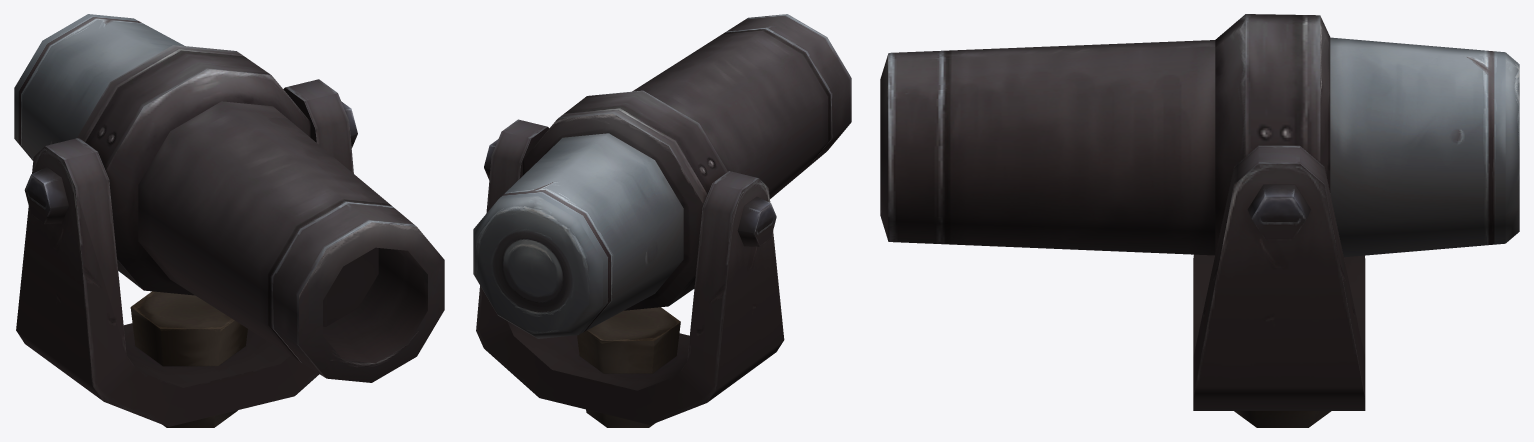
File: Tow_Cannon1.fbx
3 views of the same model, side by side, from view 1: azimuth 30°, elevation 25°; view 2: azimuth 150°, elevation 25°; view 3: azimuth 270°, elevation 25° (orthographic). The views are drawn at different scales.
Parts seen in each view (by area): view 1: Cannon1_Turret, Cannon1_base; view 2: Cannon1_Turret, Cannon1_base; view 3: Cannon1_Turret, Cannon1_base.
Boxes of the visible parts, bbox=[...] form: Cannon1_Turret: bbox=[14, 14, 444, 382]; Cannon1_base: bbox=[16, 79, 357, 427]; Cannon1_Turret: bbox=[473, 14, 851, 338]; Cannon1_base: bbox=[476, 119, 784, 427]; Cannon1_Turret: bbox=[880, 14, 1519, 257]; Cannon1_base: bbox=[1193, 145, 1365, 427].
Size of the model in its own units: 1.27 by 1.39 by 2.1.
Materials: 1 (1 with a texture image).
